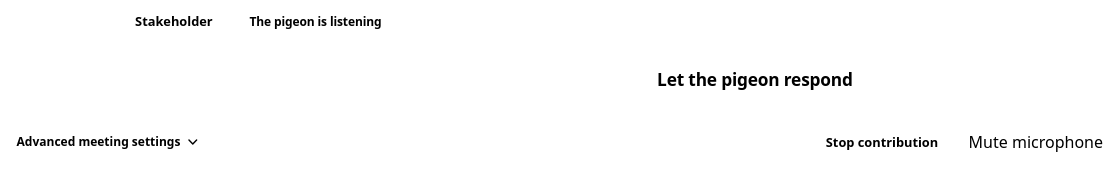
Scenario: Release meeting stage › shows the microphone state on the mute control, muted versus live
The width and height of the screenshot is (1120, 171).
Click the button with test id "call-control-mute" at {"x": 1033, "y": 142}, box 962,130 -> 1103,154
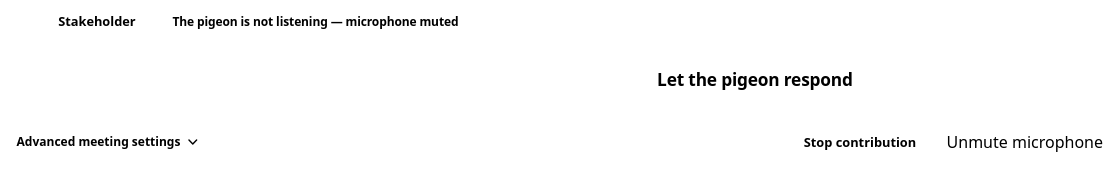
Expected: the button with test id "call-control-mute" reads "Unmute microphone", 940,130 -> 1103,154
